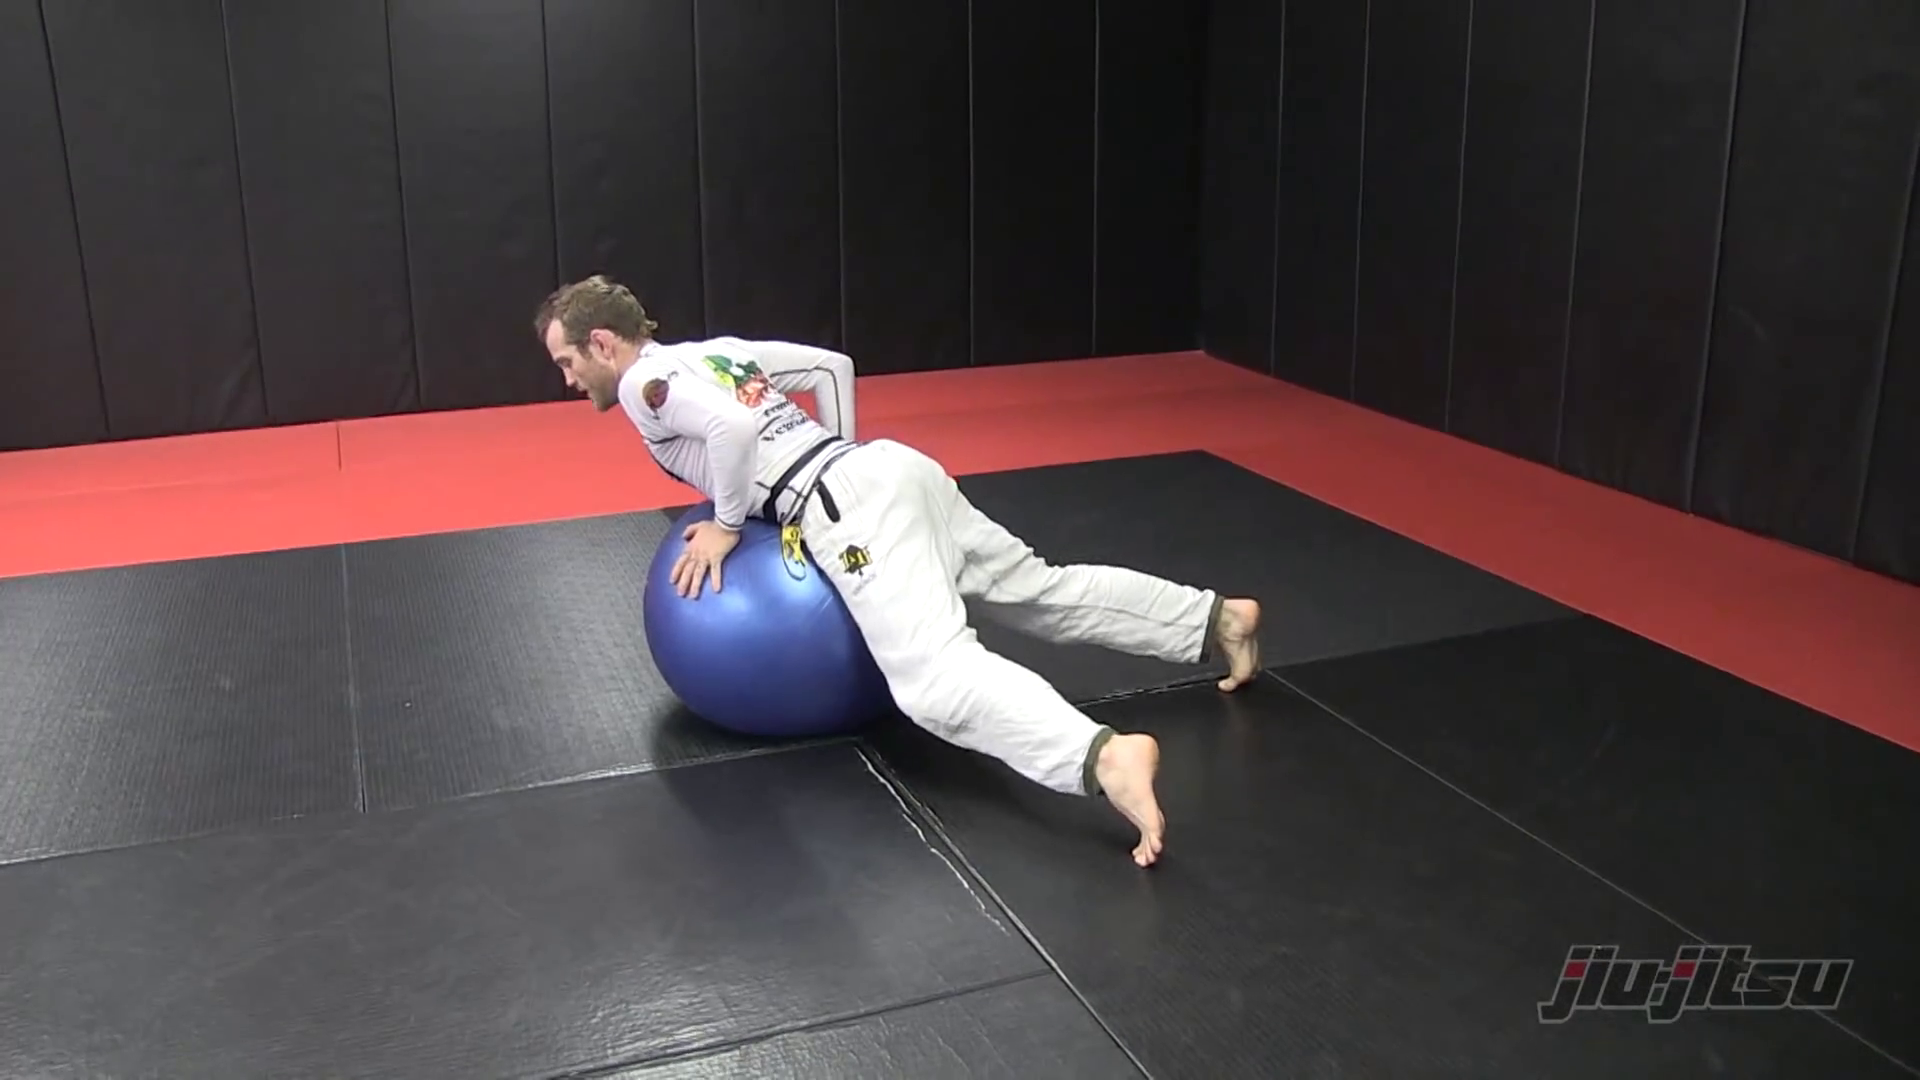yogaball: (638, 484, 887, 762)
